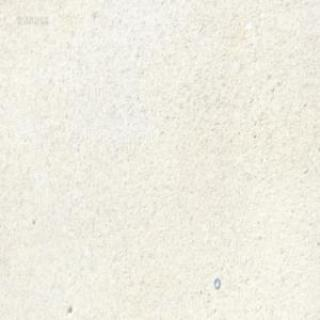Washertrack_idkeyframe: (213, 277, 220, 289)
